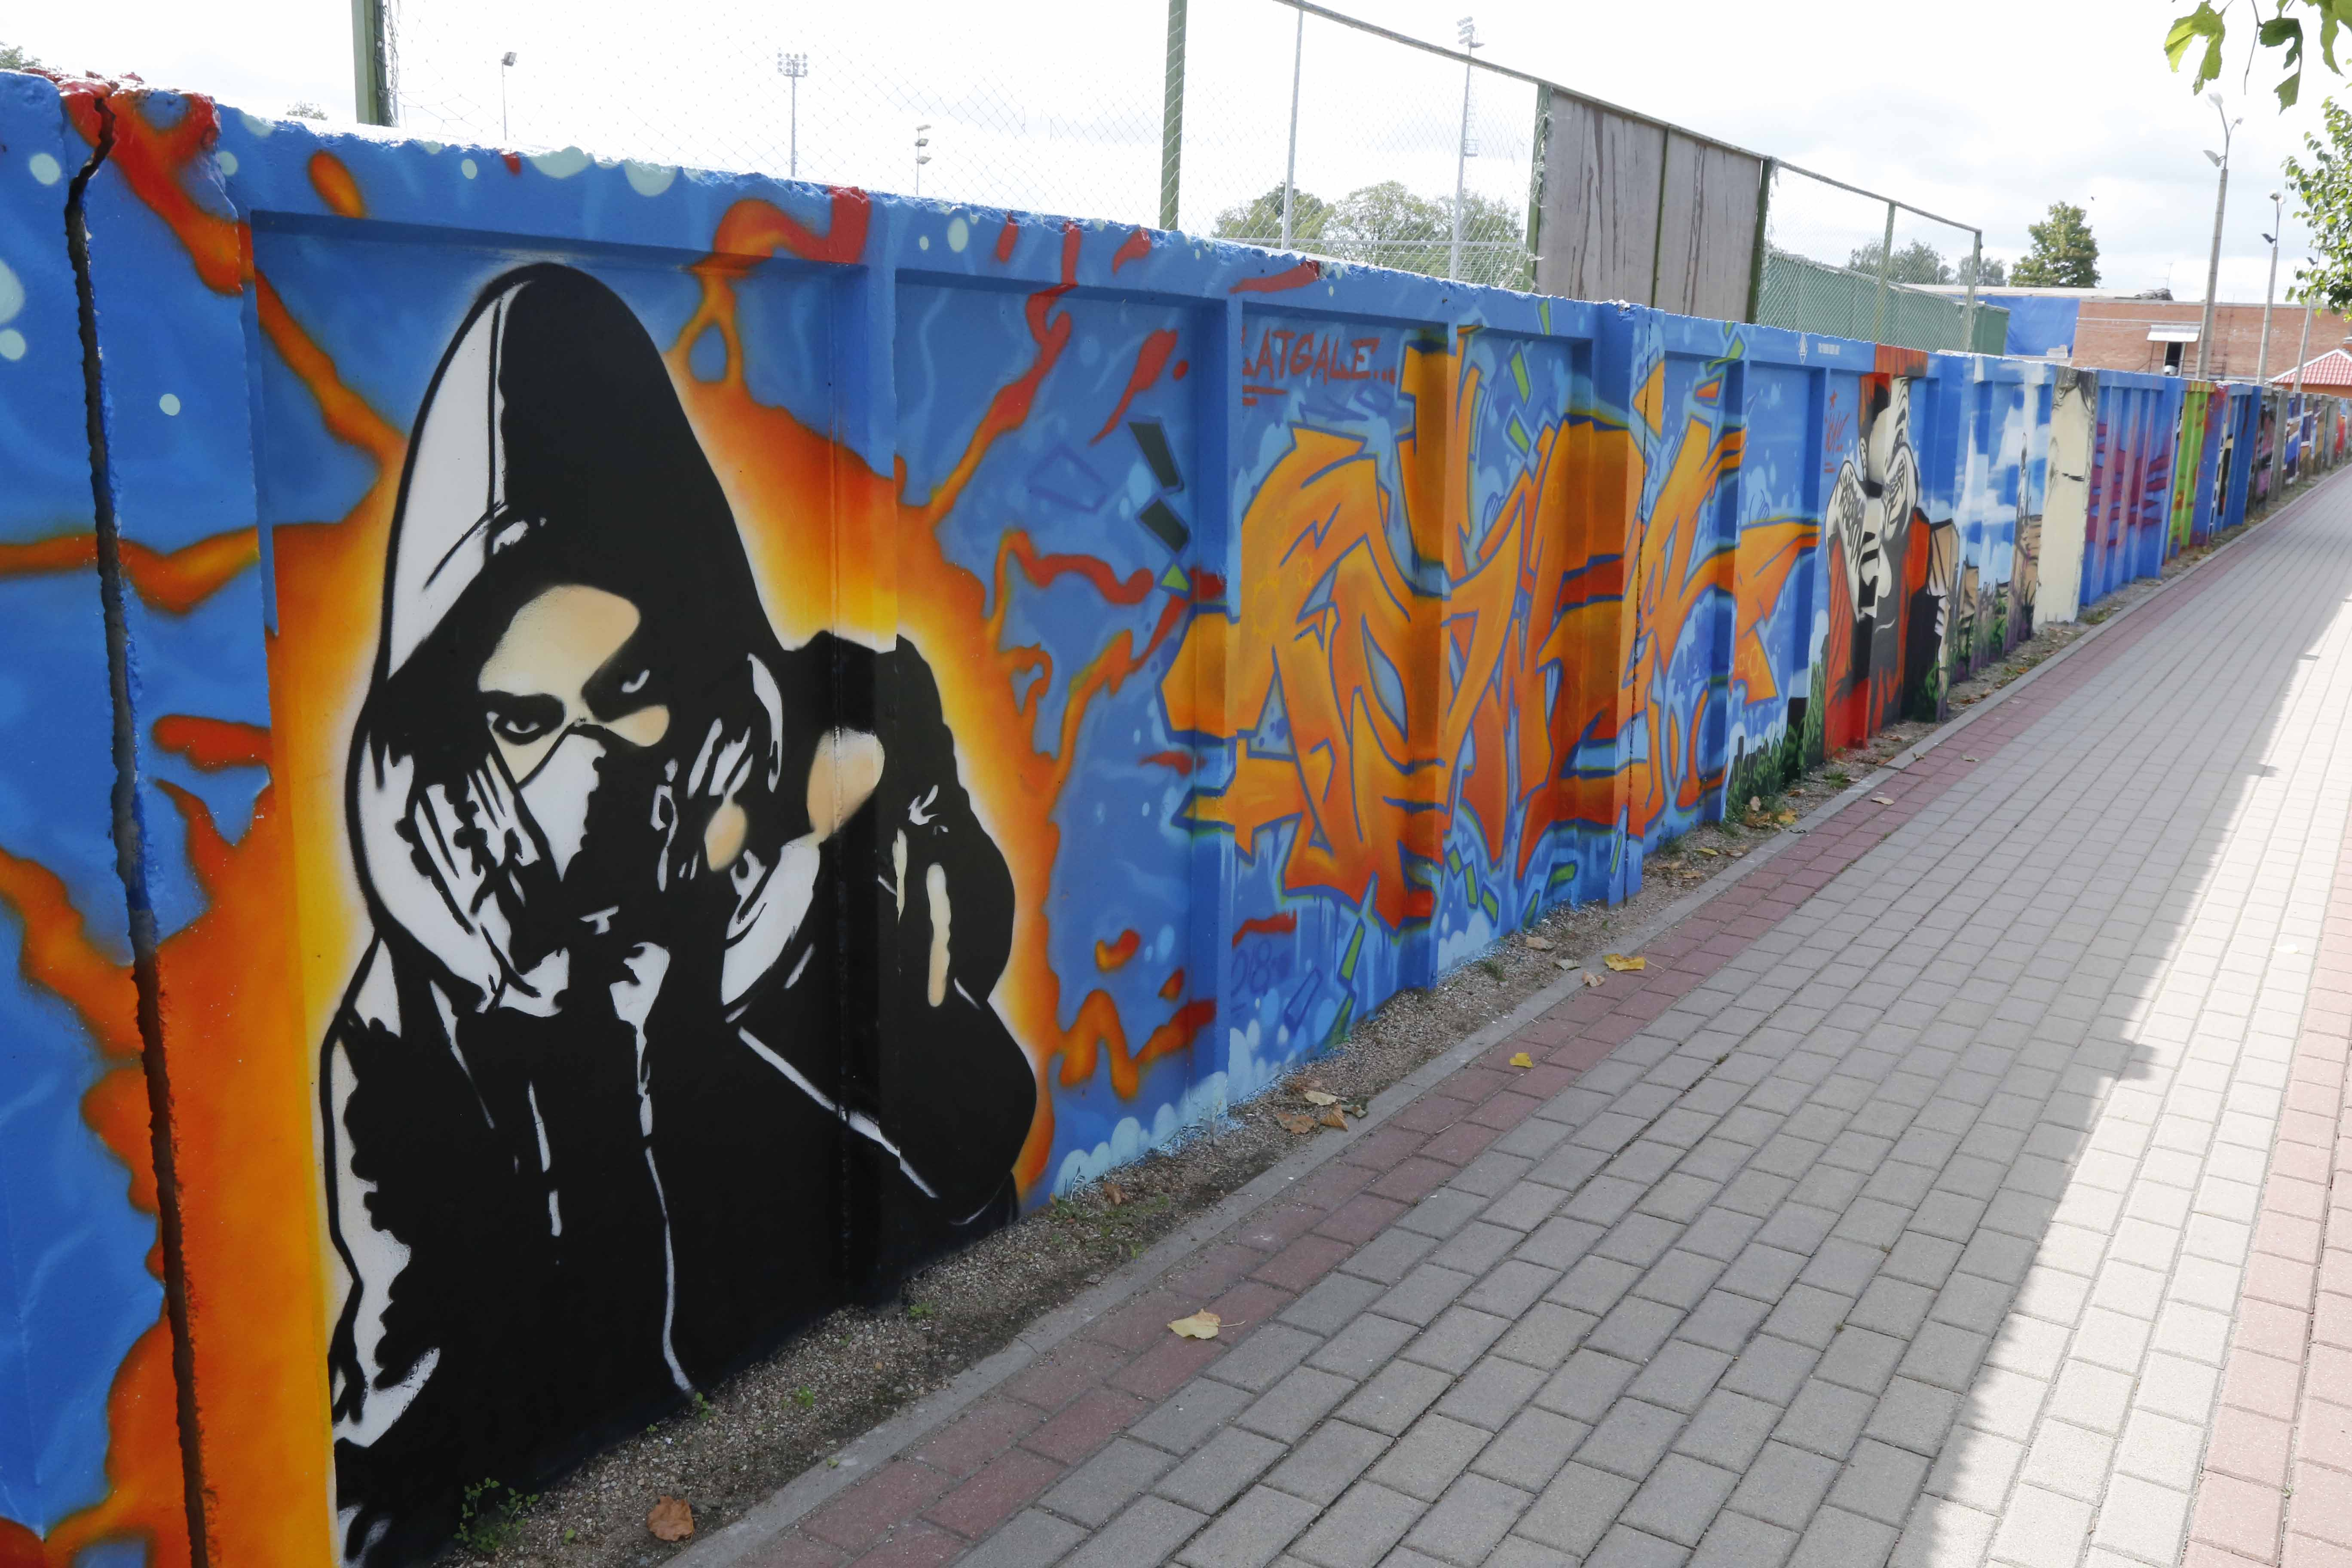graphite: (315, 261, 1094, 1491), (1223, 380, 1788, 915), (1830, 378, 1963, 759), (2086, 423, 2186, 562)
